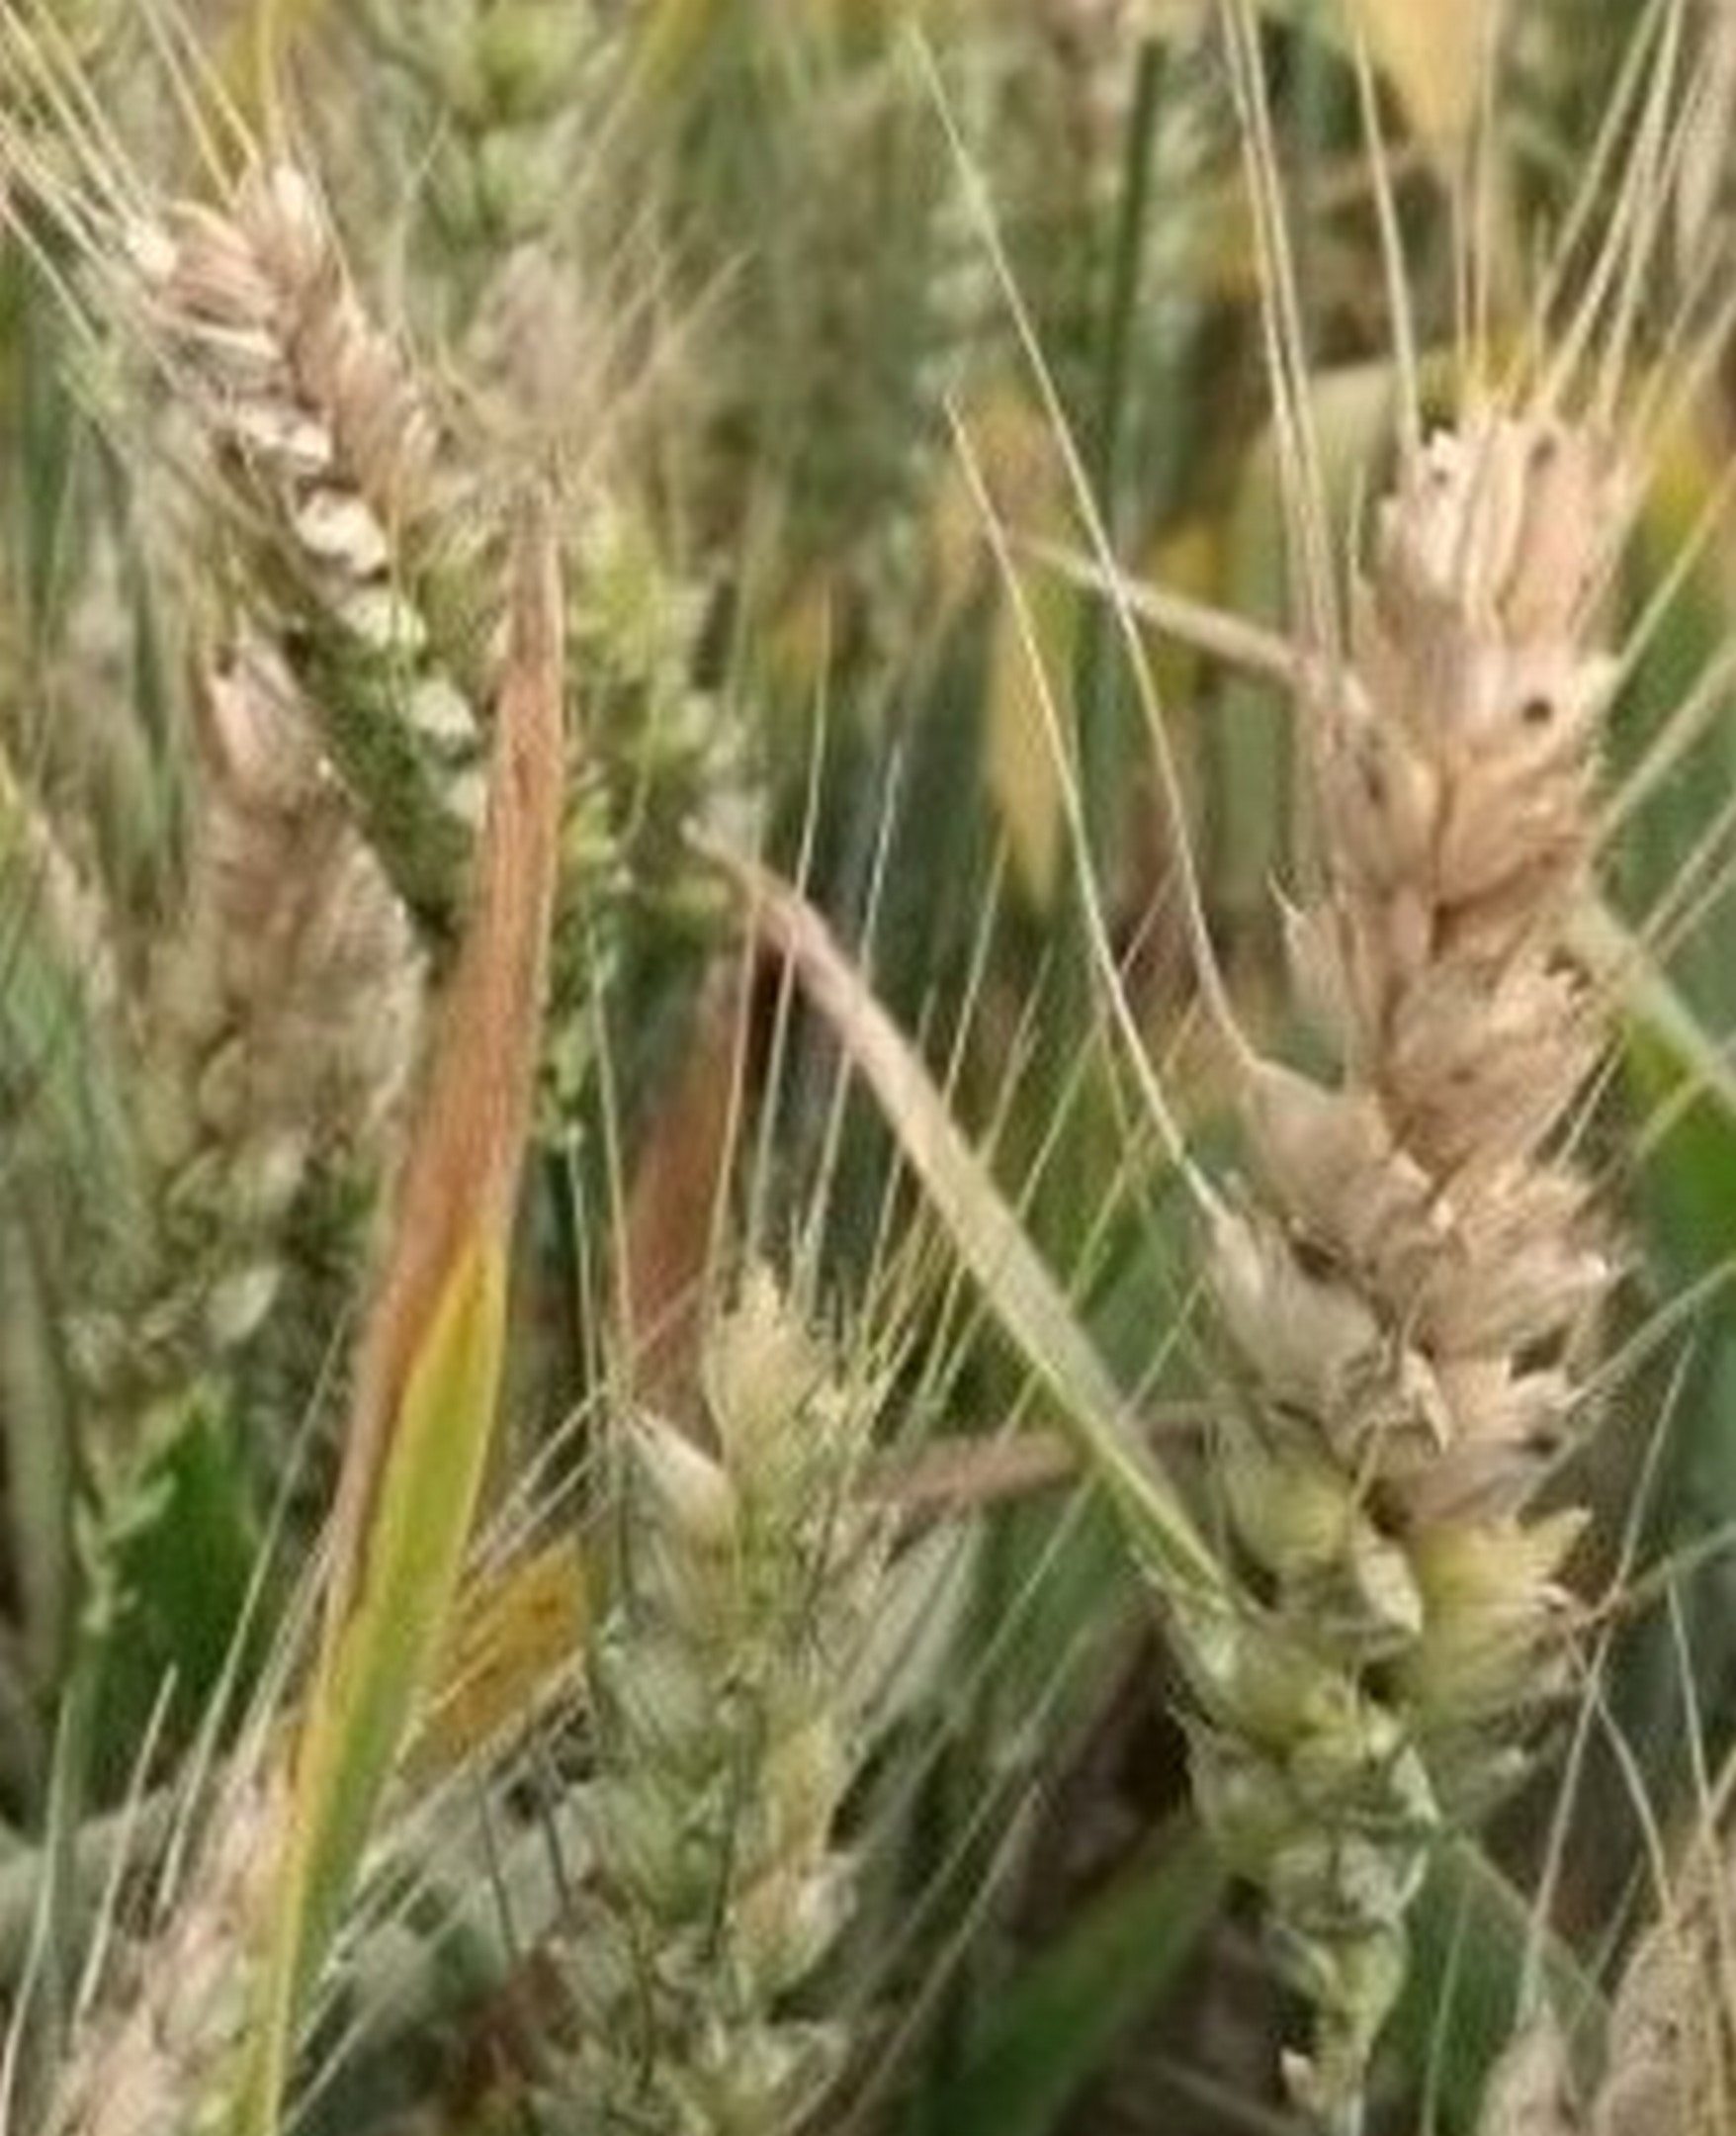Wheat scab: (1166, 411, 1646, 1876), (152, 165, 641, 1054)
